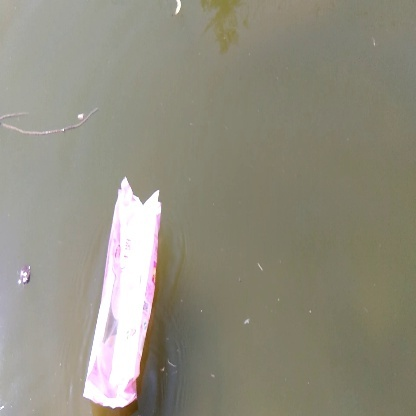plastic-bag: (79, 179, 167, 409)
